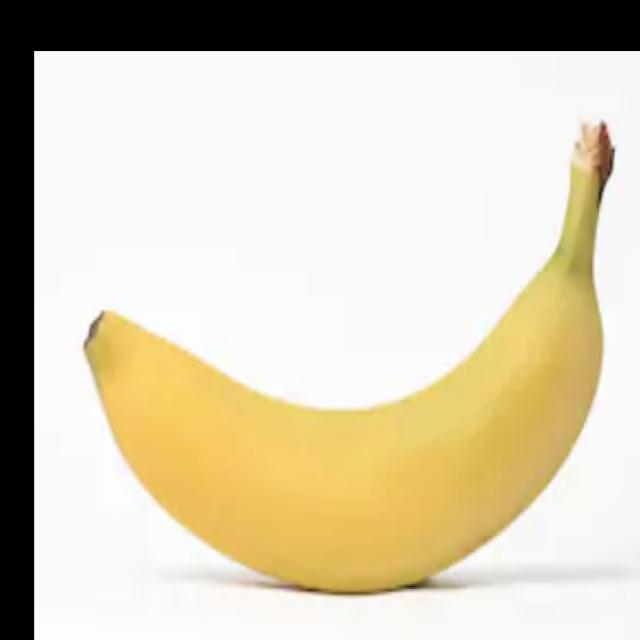Ripe: (74, 87, 633, 600)
